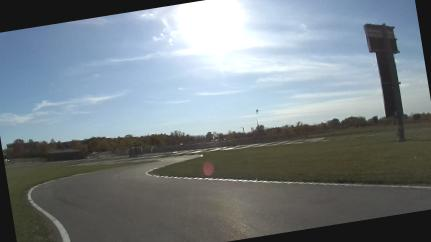Grass: (154, 130, 430, 184), (5, 161, 135, 241)
Lane: (32, 156, 430, 241), (341, 140, 342, 142)
